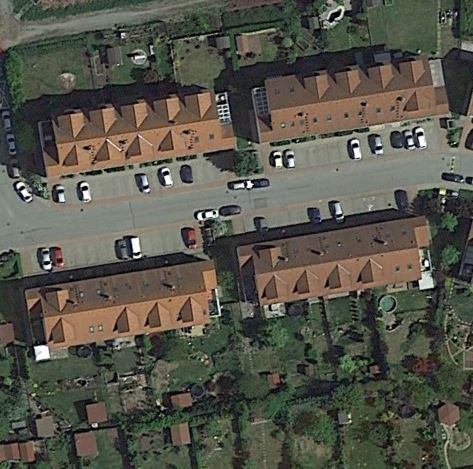block of flats: (232, 208, 436, 315), (38, 82, 237, 184), (29, 252, 221, 355), (248, 53, 449, 146)
